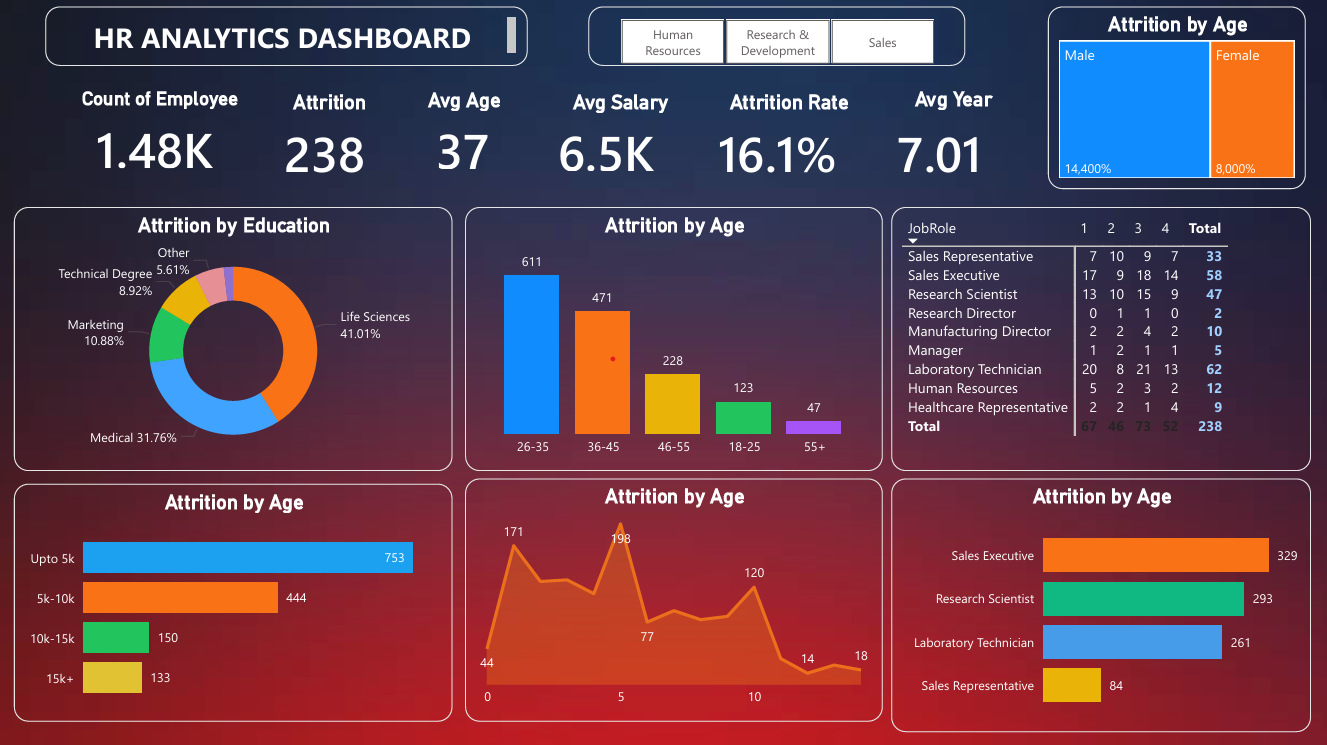

This screenshot's page, from the dashboard's own definition file:
{"tool":"powerbi","page":{"name":"Page 1","canvas":[1280,720],"ordinal":0},"visuals":[{"type":"cardVisual","title":"Count of Employee","fields":{"Data":["CountNonNull(HR_Analytics.EmpID)"]},"box":[67.5,85,180,95],"z":0},{"type":"cardVisual","title":"Attrition Rate","fields":{"Data":["HR_Analytics.AttritionRate"]},"box":[662.5,87.5,195,97.5],"z":1000},{"type":"cardVisual","title":"Attrition","fields":{"Data":["Sum(HR_Analytics.AttritionCount)"]},"box":[247.5,87.5,145,97.5],"z":2000},{"type":"cardVisual","title":"Avg Age","fields":{"Data":["Avg(HR_Analytics.Age)"]},"box":[392.5,86.2,113.8,95],"z":3000},{"type":"cardVisual","title":"Avg Salary","fields":{"Data":["Avg(HR_Analytics.MonthlyIncome)"]},"box":[510,87.5,177.5,95],"z":4000},{"type":"cardVisual","title":"Avg Year","fields":{"Data":["Avg(HR_Analytics.YearsAtCompany)"]},"box":[835,85,165,102.5],"z":5000},{"type":"donutChart","title":"Attrition by Education","fields":{"Category":["HR_Analytics.EducationField"],"Y":["CountNonNull(HR_Analytics.AttritionCount)"]},"box":[17.5,200,420,252.5],"z":6000},{"type":"columnChart","title":"Attrition by Age","fields":{"Category":["HR_Analytics.AgeGroup"],"Y":["CountNonNull(HR_Analytics.AttritionCount)"]},"box":[450,200,400,252.5],"z":7000},{"type":"pivotTable","fields":{"Rows":["HR_Analytics.JobRole"],"Columns":["HR_Analytics.JobSatisfaction"],"Values":["Sum(HR_Analytics.AttritionCount)"]},"box":[857.5,200,402.5,252.5],"z":8000},{"type":"barChart","title":"Attrition by Salary Slab","fields":{"Category":["HR_Analytics.SalarySlab"],"Y":["CountNonNull(HR_Analytics.AttritionCount)"]},"box":[17.5,465,420,227.5],"z":9000},{"type":"barChart","title":"Attrition by JobRole","fields":{"Category":["HR_Analytics.JobRole"],"Y":["CountNonNull(HR_Analytics.AttritionCount)"]},"box":[857.5,460,402.5,242.5],"z":10000},{"type":"areaChart","title":"Attrition by Year At Company","fields":{"Category":["HR_Analytics.YearsAtCompany"],"Y":["CountNonNull(HR_Analytics.AttritionCount)"]},"box":[450,460,400,232.5],"z":11000},{"type":"treemap","title":"Attrition by Age","fields":{"Group":["HR_Analytics.Gender"],"Values":["Sum(HR_Analytics.AttritionCount)"]},"box":[1007.5,7.5,247.5,175],"z":12000},{"type":"slicer","fields":{"Values":["HR_Analytics.Department"]},"box":[567.5,7.5,361.2,57.5],"z":12001},{"type":"textbox","box":[47.5,7.5,462.5,57.5],"z":12002}]}

Visuals, with their boxes in screenshot pixels (x1, y1, x2, y2), scaled from the page's 1280x720 canvas onto the 1327x745 screenshot:
"Count of Employee" cardVisual: box(70, 88, 257, 186)
"Attrition Rate" cardVisual: box(687, 91, 889, 191)
"Attrition" cardVisual: box(257, 91, 407, 191)
"Avg Age" cardVisual: box(407, 89, 525, 187)
"Avg Salary" cardVisual: box(529, 91, 713, 189)
"Avg Year" cardVisual: box(866, 88, 1037, 194)
"Attrition by Education" donutChart: box(18, 207, 454, 468)
"Attrition by Age" columnChart: box(467, 207, 881, 468)
pivotTable - HR_Analytics.JobRole x HR_Analytics.JobSatisfaction: box(889, 207, 1306, 468)
"Attrition by Salary Slab" barChart: box(18, 481, 454, 717)
"Attrition by JobRole" barChart: box(889, 476, 1306, 727)
"Attrition by Year At Company" areaChart: box(467, 476, 881, 717)
"Attrition by Age" treemap: box(1044, 8, 1301, 189)
slicer - HR_Analytics.Department: box(588, 8, 963, 67)
textbox: box(49, 8, 529, 67)
